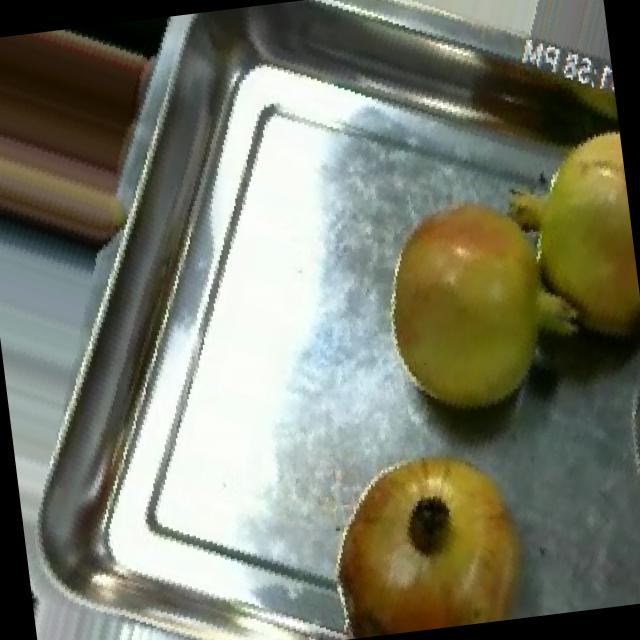fruit: (336, 152, 604, 452), (284, 410, 561, 640), (0, 18, 164, 159)
